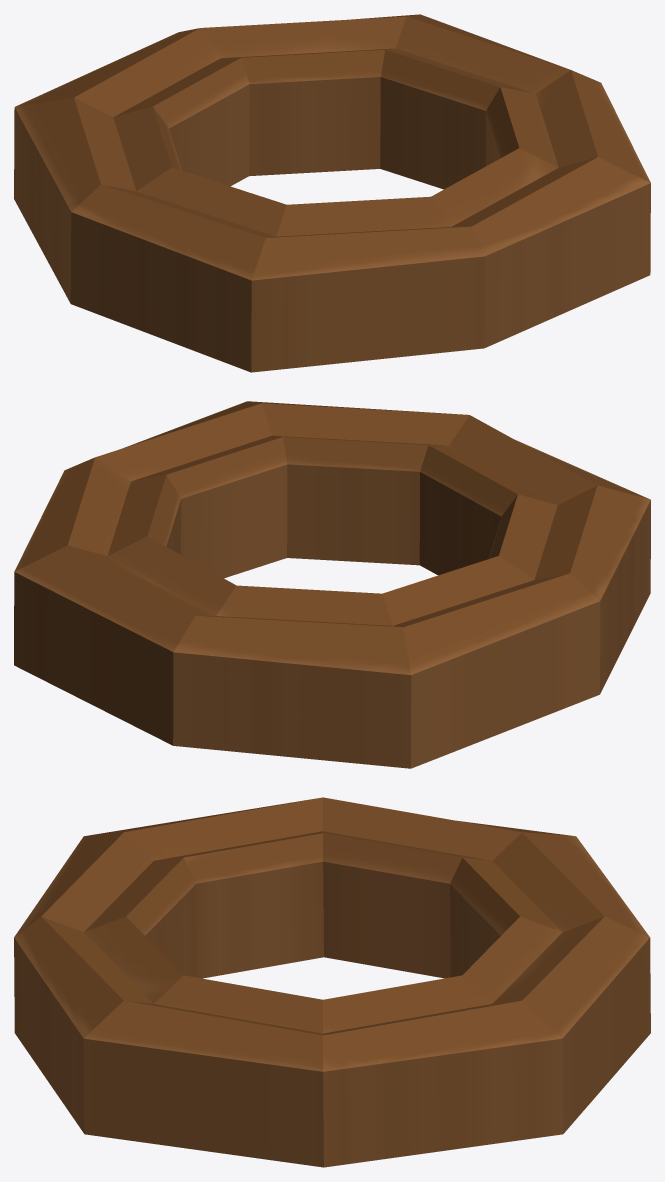
Rendered from pipeRing.fbx.
3 views of the same model, one above another, from view 1: azimuth 30°, elevation 25°; view 2: azimuth 150°, elevation 25°; view 3: azimuth 270°, elevation 25° (orthographic). The views are drawn at different scales.
Visible parts, largest first — view 1: Torus; view 2: Torus; view 3: Torus.
Part boxes in pixels (x1=…): Torus: x1=14, y1=14, x2=650, y2=372; Torus: x1=14, y1=401, x2=650, y2=768; Torus: x1=14, y1=797, x2=650, y2=1167.
Bounding box in the file's own units: 285 × 57.83 × 286.
1 material, 1 textured.
